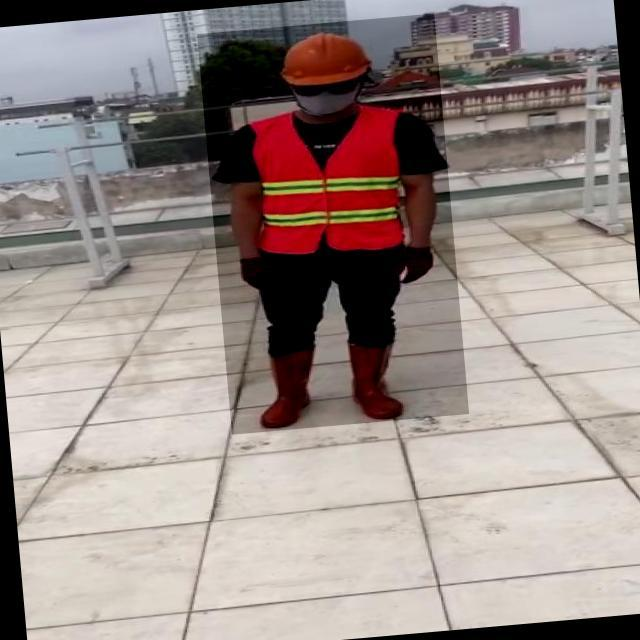Gloves: (387, 246, 436, 285), (236, 253, 281, 291)
Helmet: (268, 25, 371, 91)
Human: (197, 13, 469, 434)
Safety Boot: (253, 348, 324, 431), (347, 338, 407, 423)
Safety Vest: (249, 107, 409, 258)
